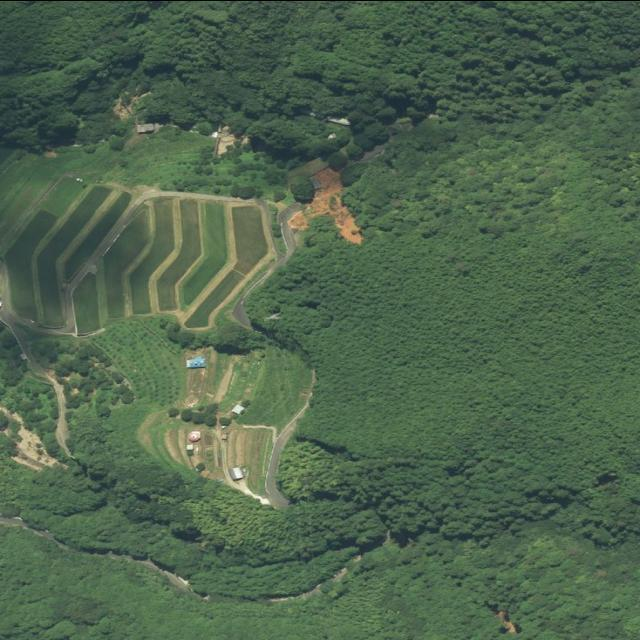landslide: (288, 165, 362, 242), (0, 405, 64, 470)
